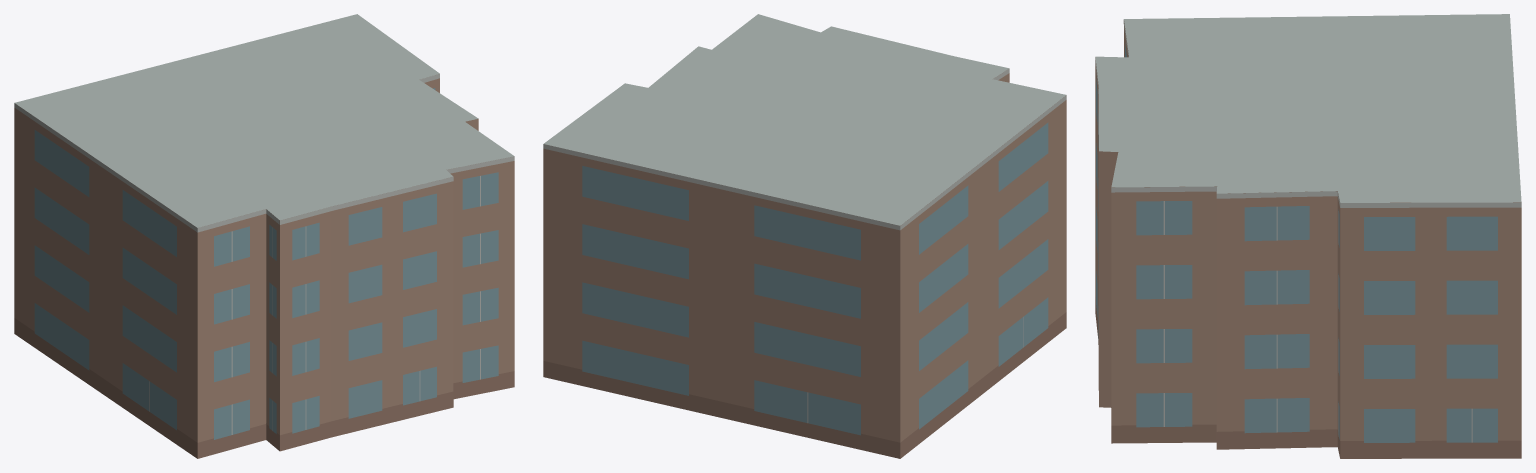
Rendered from survey-upis-32957510.glb.
The picture shows the model from 3 angles, left to right: view 1: azimuth 30°, elevation 25°; view 2: azimuth 150°, elevation 25°; view 3: azimuth 270°, elevation 25°; orthographic projection. The views are drawn at different scales.
Parts seen in each view (by area): view 1: survey-upis-32957510.tmp; view 2: survey-upis-32957510.tmp; view 3: survey-upis-32957510.tmp.
Boxes of the visible parts, box(x1,y1,x2,y2) form: survey-upis-32957510.tmp: box(14, 14, 514, 458); survey-upis-32957510.tmp: box(543, 14, 1066, 458); survey-upis-32957510.tmp: box(1095, 14, 1521, 458).
Bounding box in the file's own units: 19.48 × 12.3 × 18.57.
